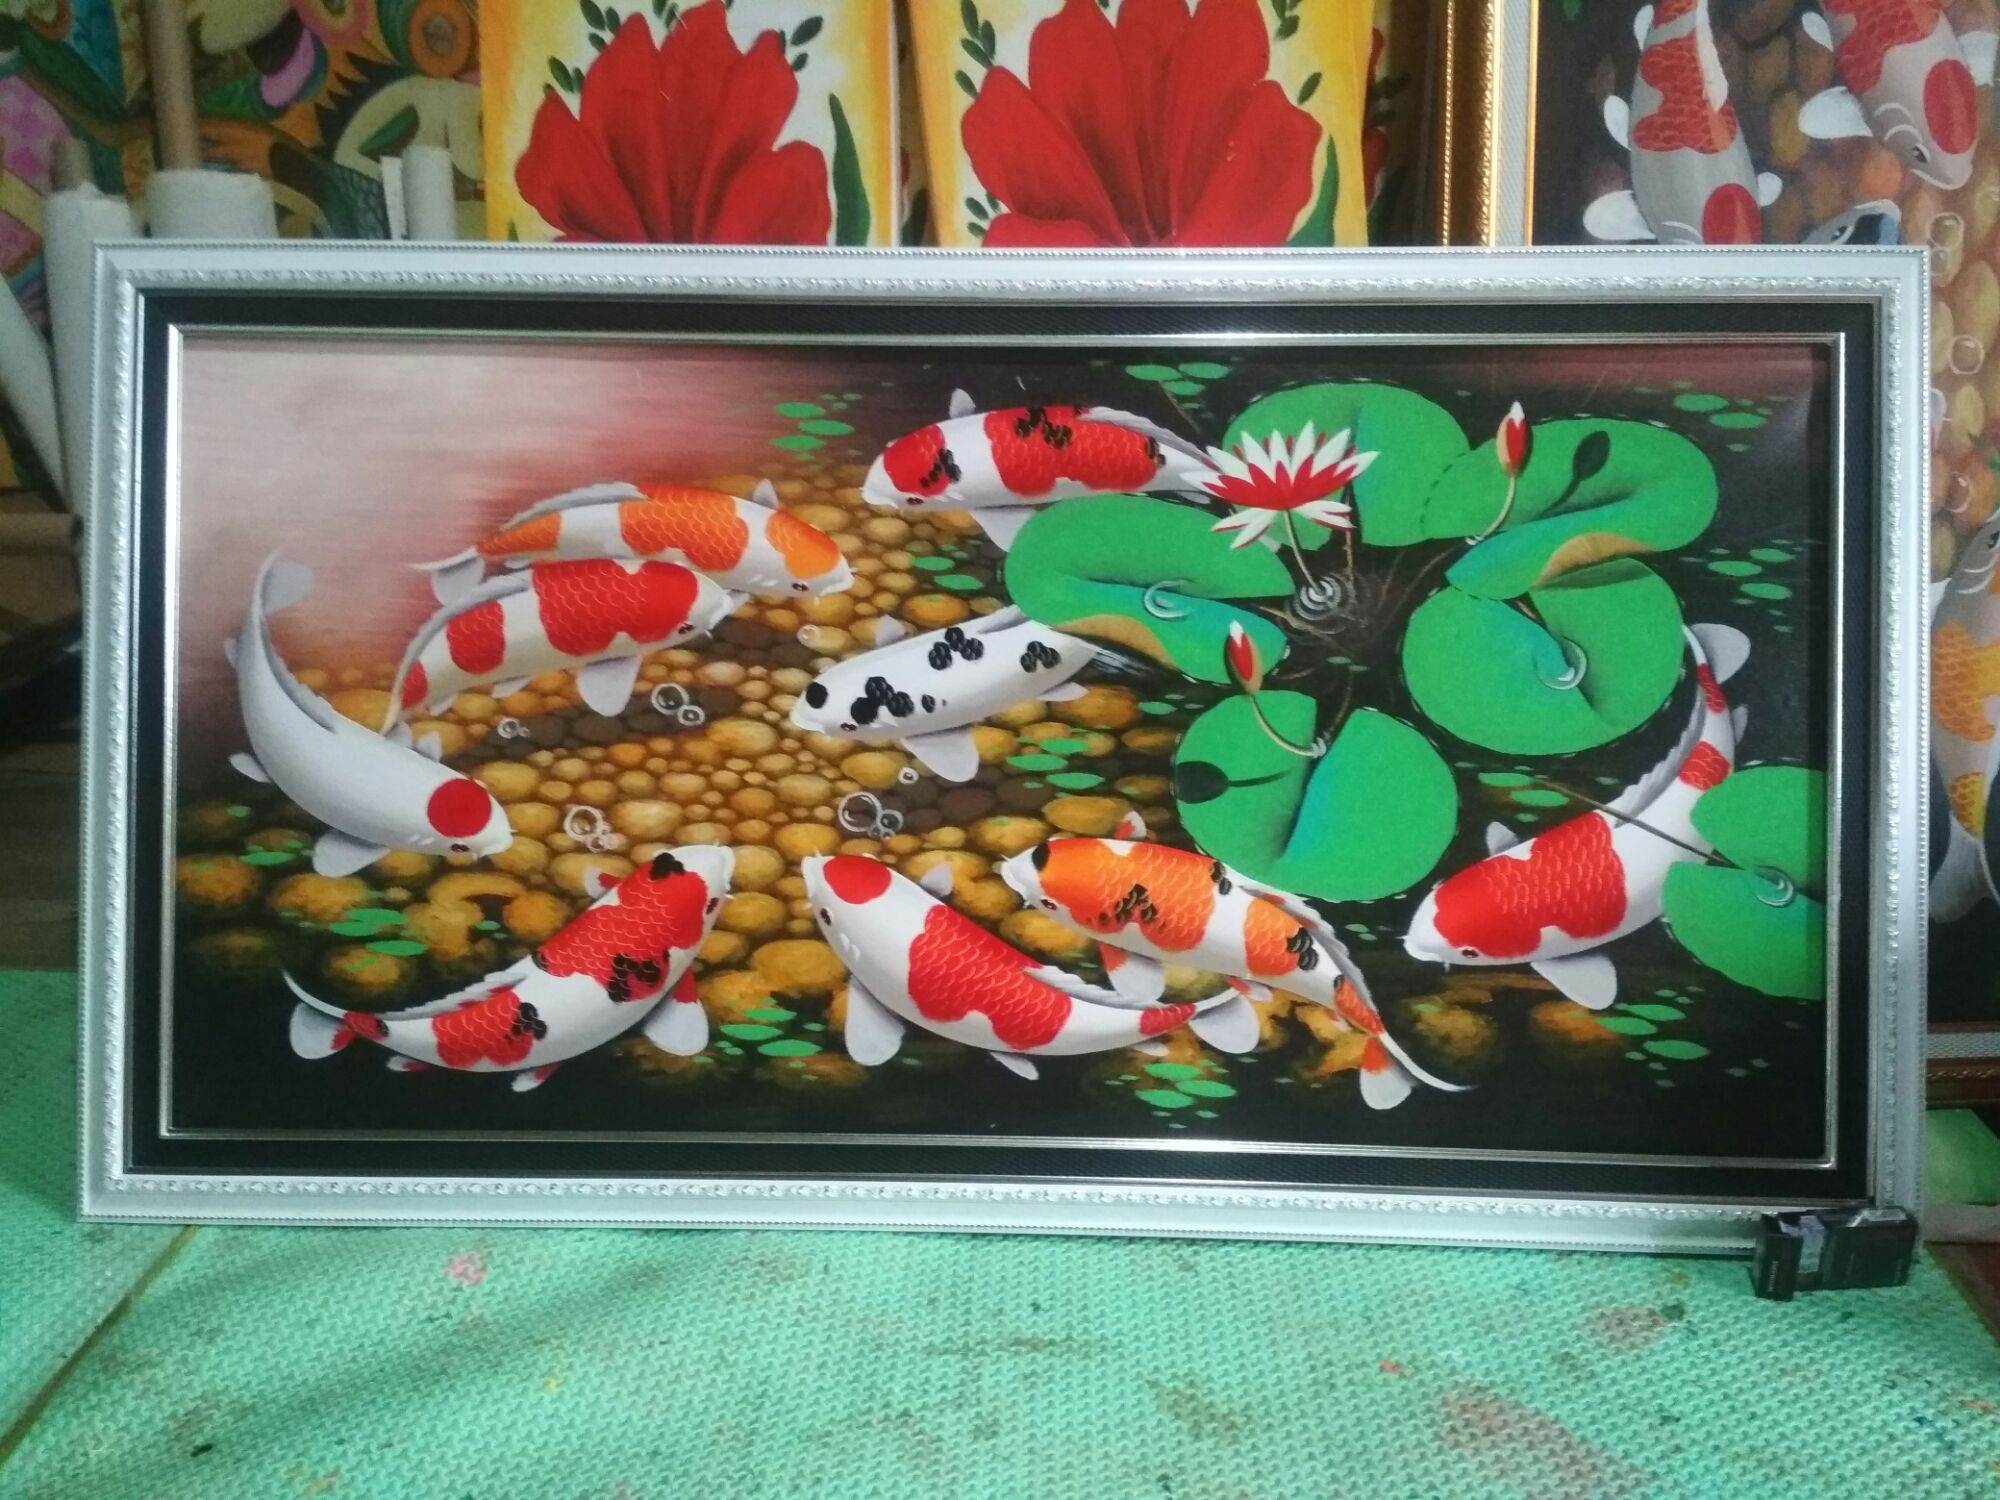lukisan: (50, 235, 1994, 1320)
